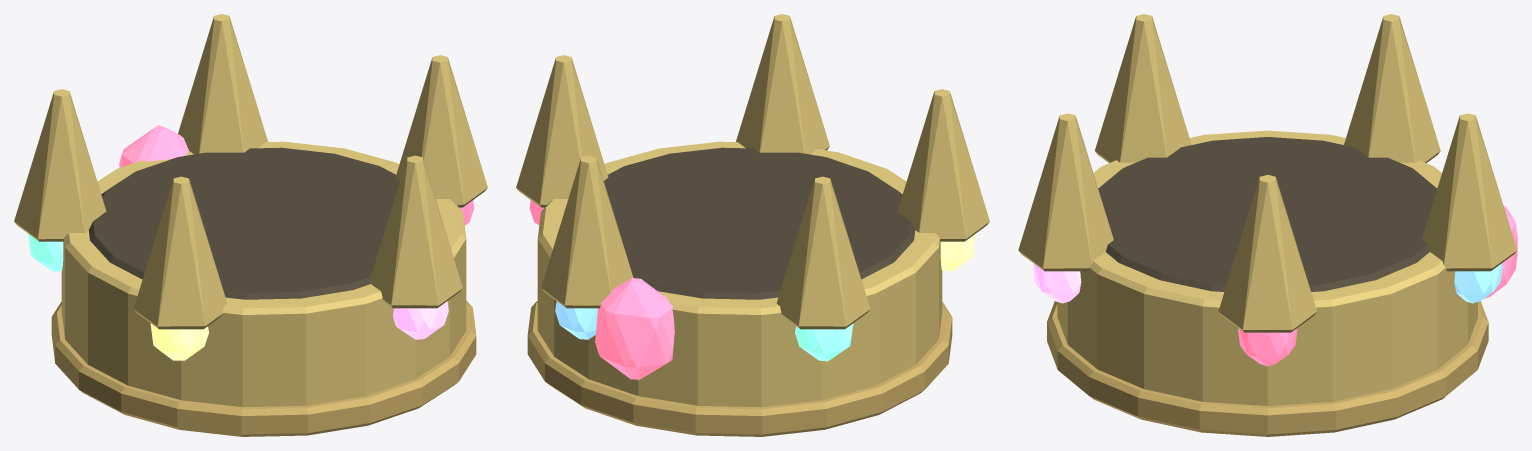
Rendered from dgn_crown.glb.
The picture shows the model from 3 angles, left to right: view 1: azimuth 30°, elevation 25°; view 2: azimuth 150°, elevation 25°; view 3: azimuth 270°, elevation 25°; orthographic projection. The views are drawn at different scales.
Visible parts, largest first — view 1: dgn_crown; view 2: dgn_crown; view 3: dgn_crown.
Part boxes in pixels (left/top/right/bottom): dgn_crown: left=14, top=14, right=487, bottom=436; dgn_crown: left=516, top=14, right=989, bottom=436; dgn_crown: left=1018, top=14, right=1517, bottom=436.
Bounding box in the file's own units: 0.4507 × 0.2687 × 0.4748.
